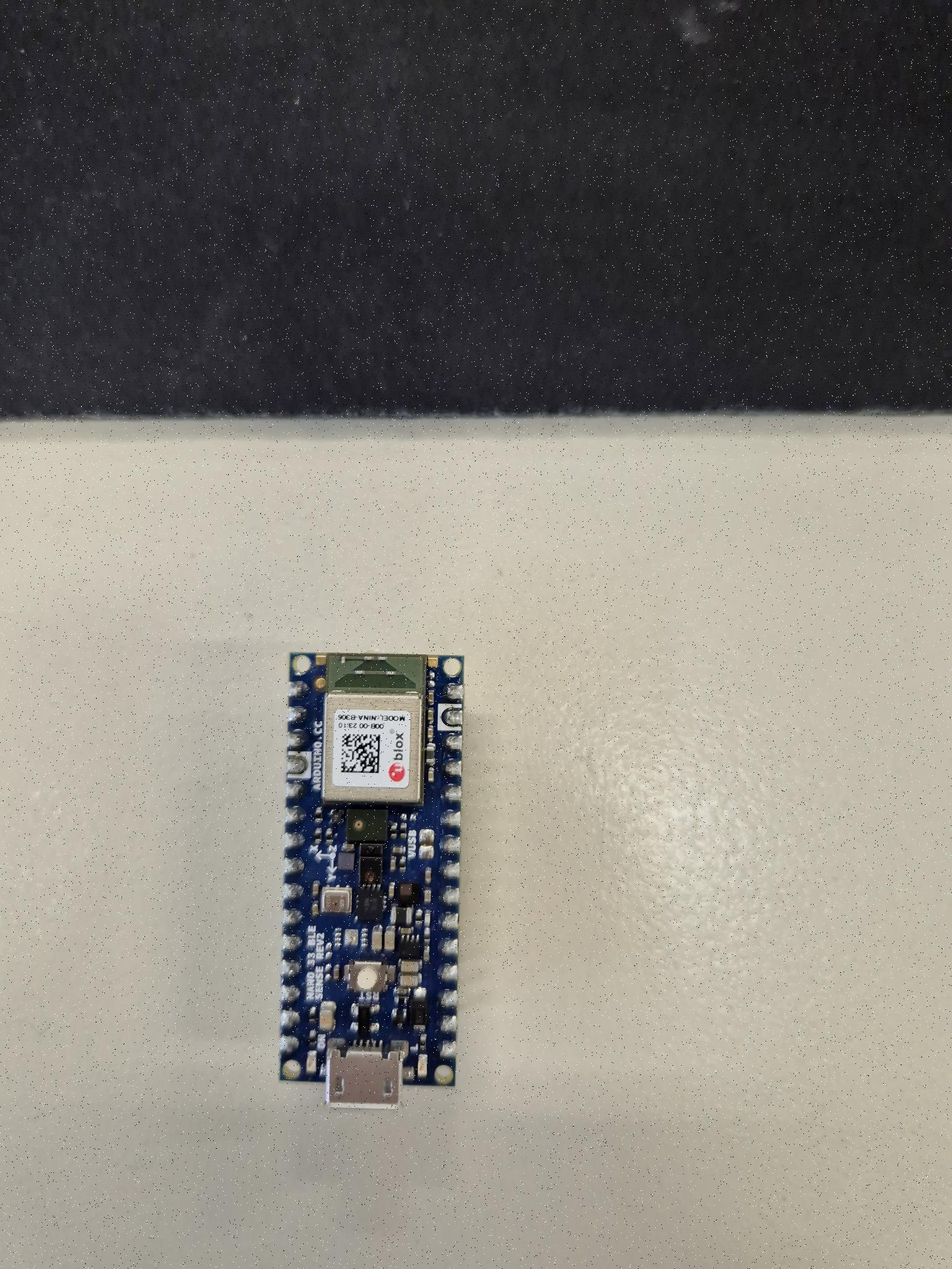arduino-nano-ble-sense: (281, 653, 464, 1107)
